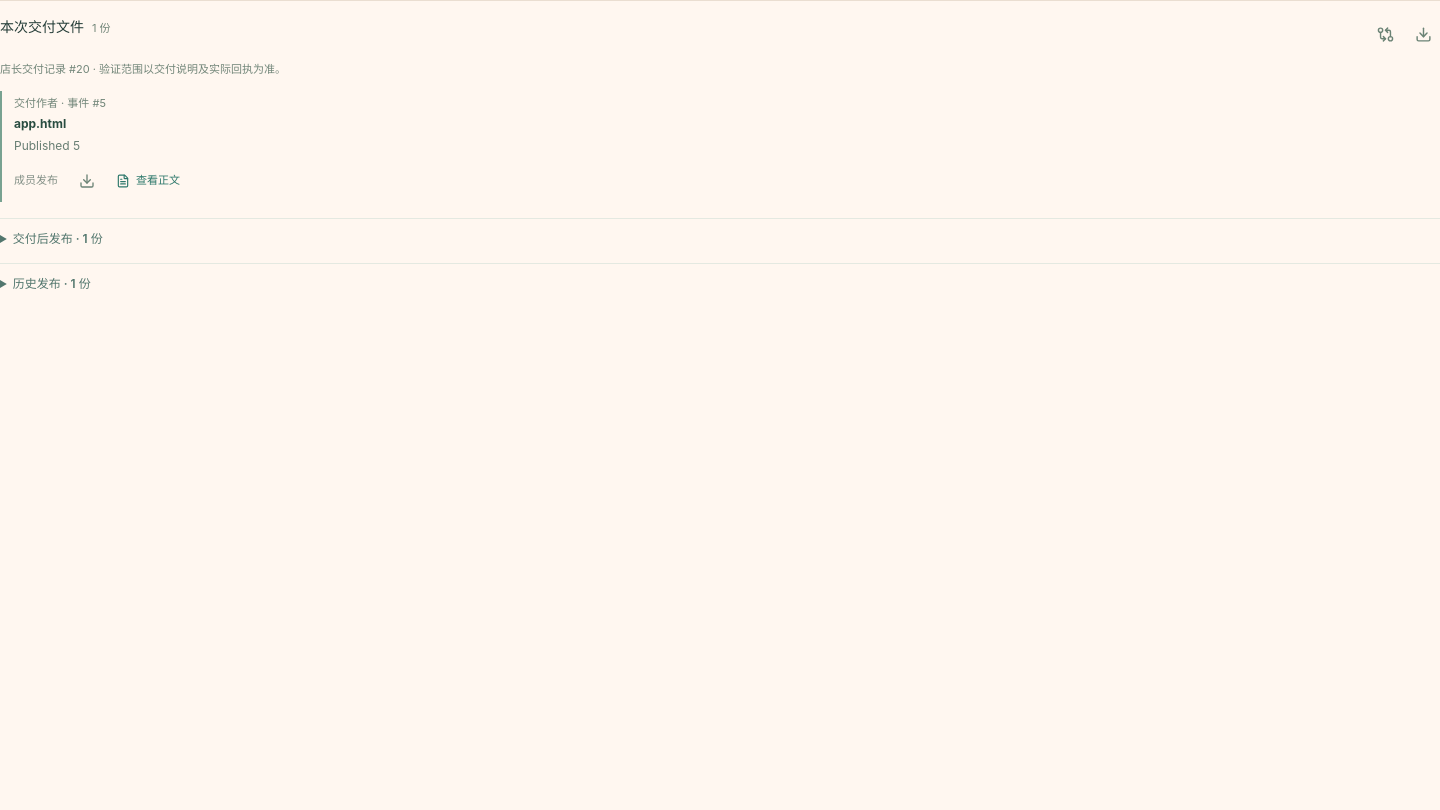
Test case: opens frozen delivery #5 against same-target #2, with selected refs and publishers, not later #25
This screenshot has width=1440, height=810.
Step 1. Click the button named "对照已发布版本" → (1385, 34), box left=1368, top=17, right=1402, bottom=51
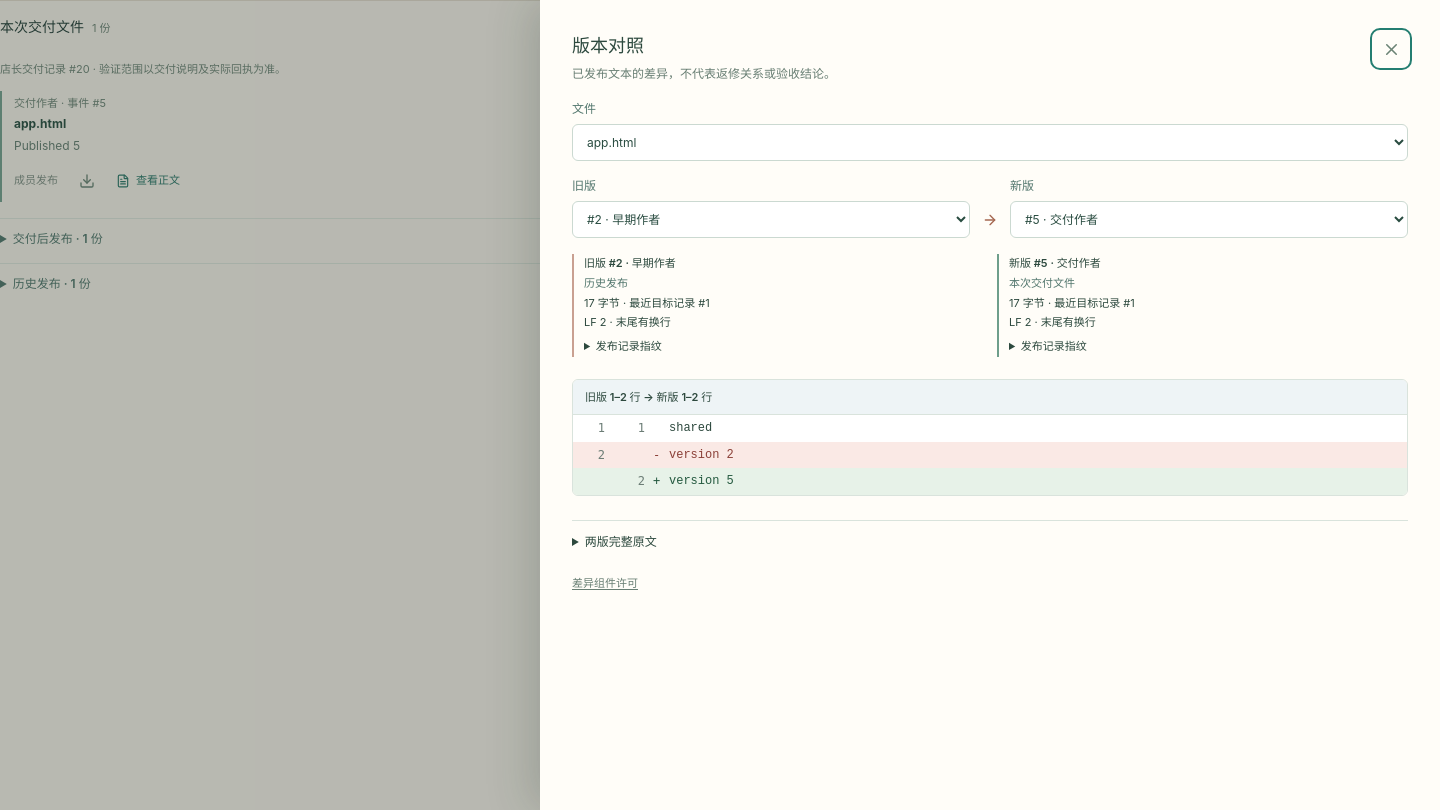
Expected: the dropdown labelled "文件" shows "app.html", left=572, top=124, right=1408, bottom=161
Expected: the dropdown labelled "旧版" shows "#2 · 早期作者", left=572, top=201, right=970, bottom=238
Expected: the dropdown labelled "新版" shows "#5 · 交付作者", left=1010, top=201, right=1408, bottom=238
Step 2. Click the heading "发布记录指纹" below "早期作者" → (629, 346), box left=596, top=339, right=662, bottom=353
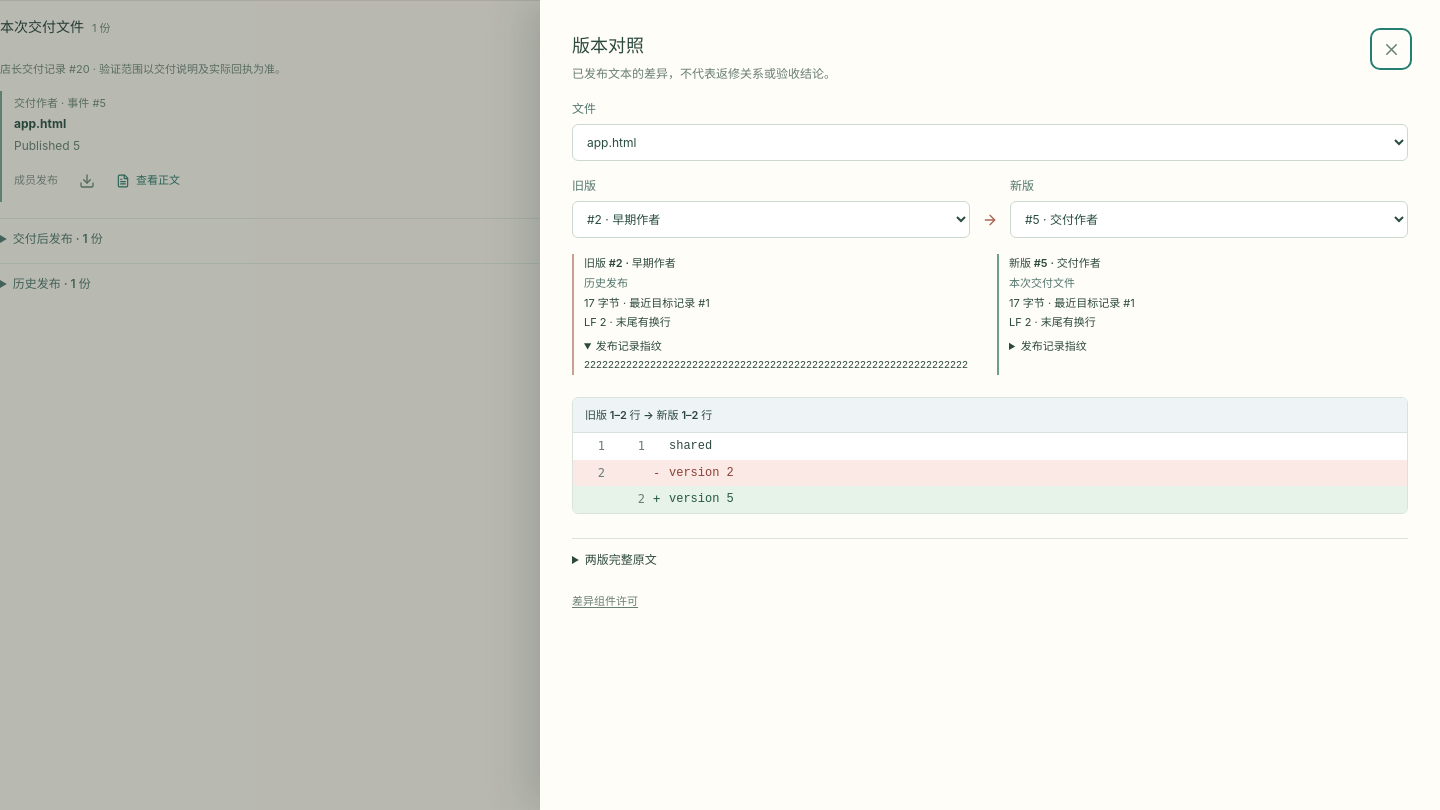
Step 3. Click the 2nd heading "发布记录指纹" → (1054, 346), box left=1021, top=339, right=1087, bottom=353
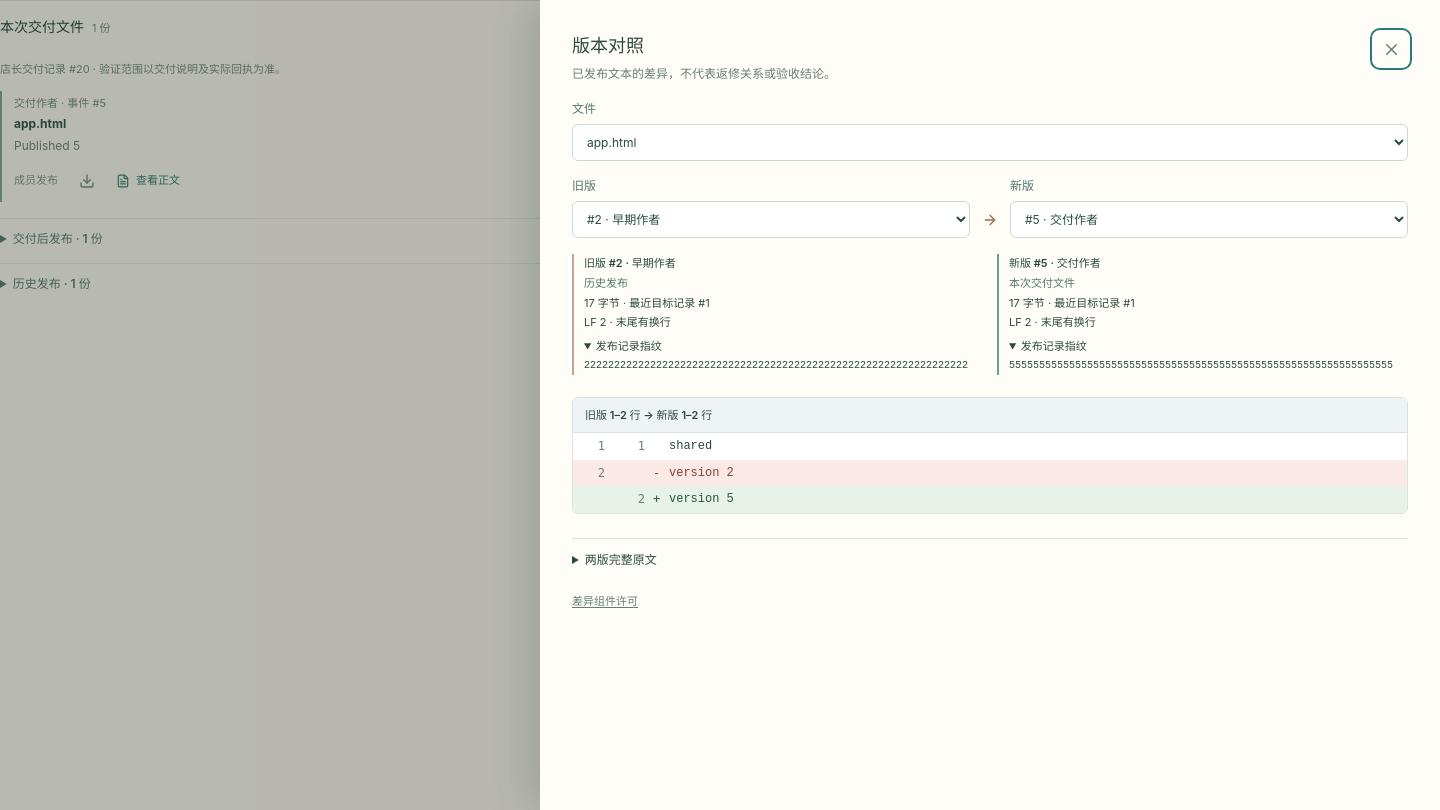
Expected: the text named "新增" is shown, left=653, top=492, right=660, bottom=506
Expected: the element named "上下文" is shown, left=653, top=436, right=669, bottom=457
Expected: the text named "旧版第2行" is shown, left=598, top=466, right=605, bottom=480
Step 4. Click the heading "两版完整原文" → (621, 559), box left=585, top=552, right=657, bottom=567
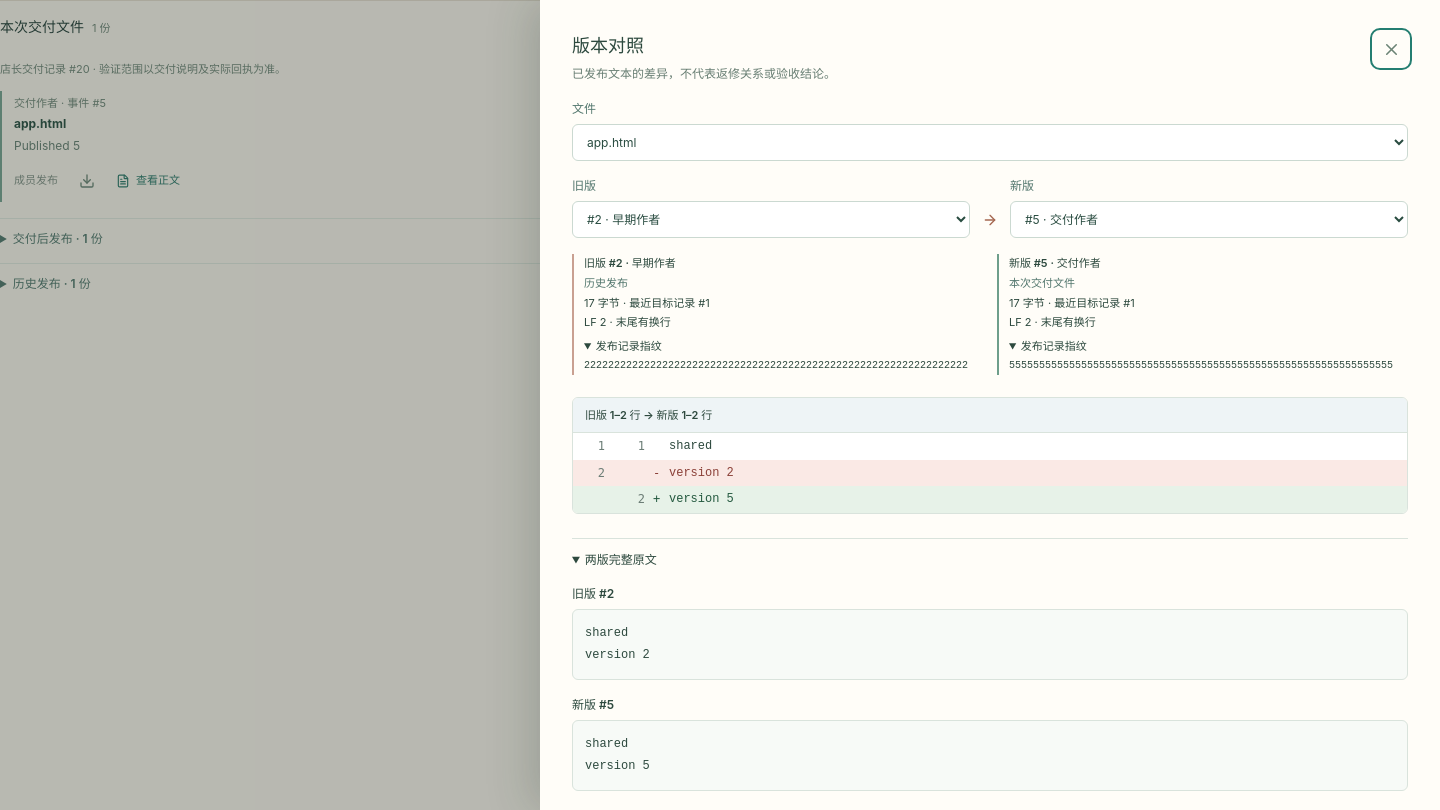
Expected: the dialog "版本对照" does not show "version 25"
Expected: the text "已发布文本的差异，不代表返修关系或验收结论。" is shown, left=572, top=64, right=836, bottom=84
Step 5. Select "#25 · 后来作者" in the dropdown labelled "新版" → (1209, 220), box left=1010, top=201, right=1408, bottom=238
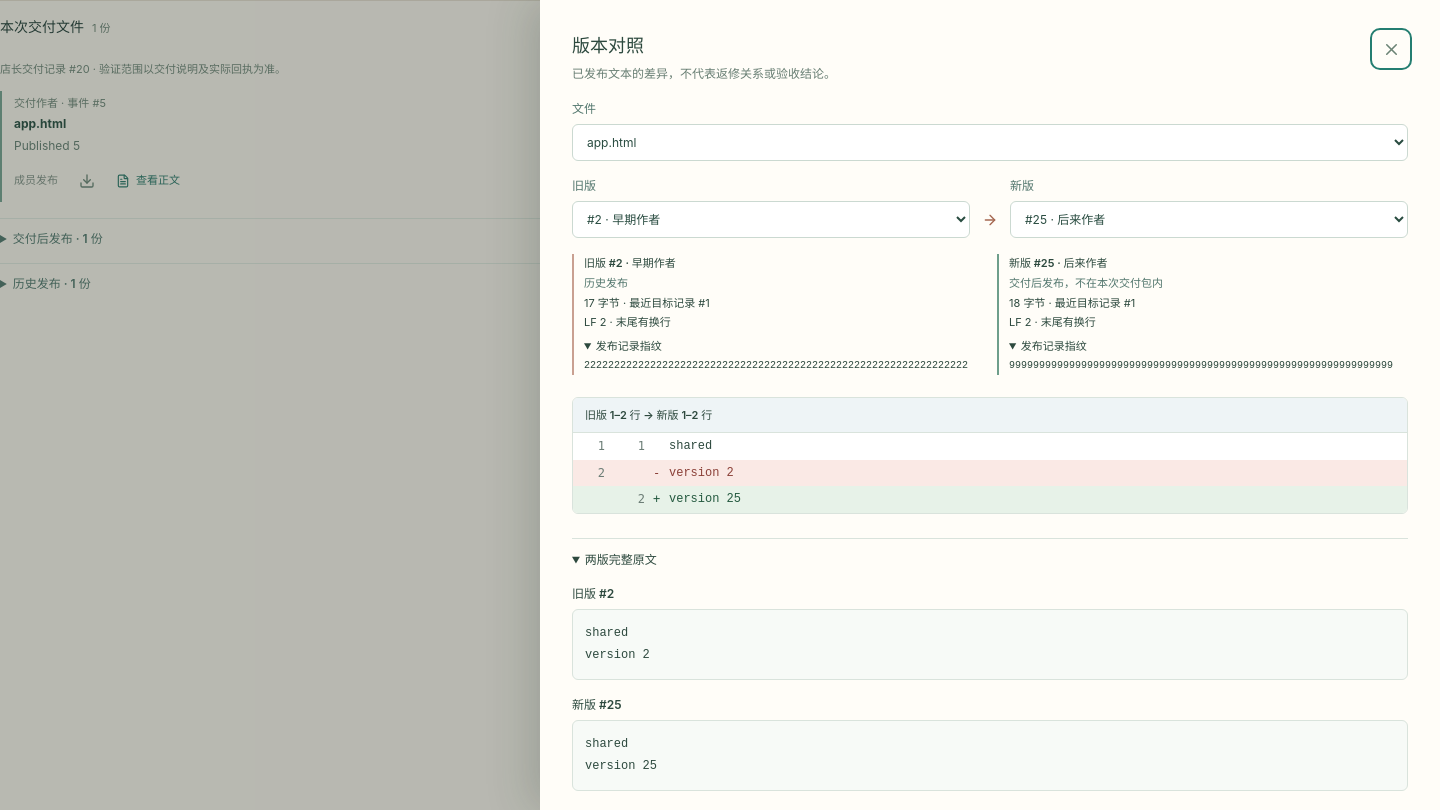
Expected: the text "新版 #25 · 后来作者" is shown, left=1009, top=256, right=1108, bottom=270
Expected: the text "交付后发布，不在本次交付包内" is shown, left=1009, top=276, right=1163, bottom=290
